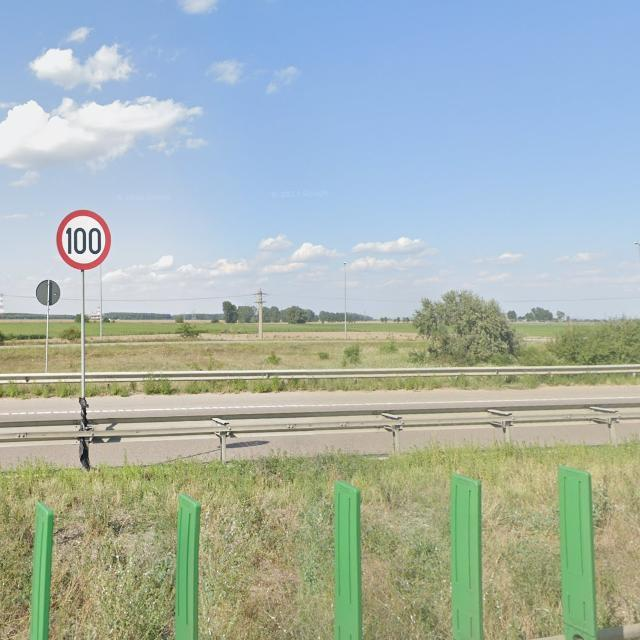forb_speed_over_100: (56, 209, 111, 270)
